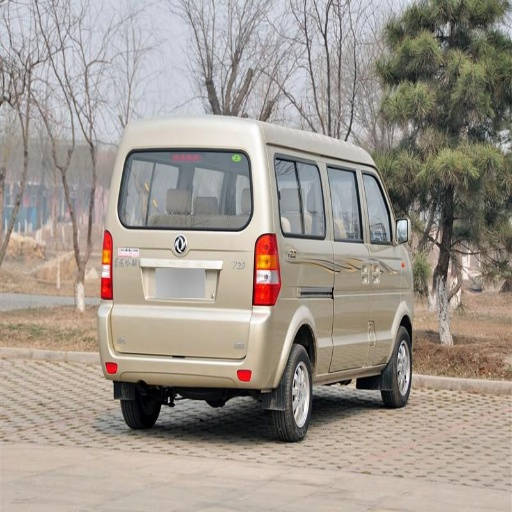back_bumper: (101, 299, 298, 385)
back_right_door: (273, 149, 363, 292)
trunk: (112, 228, 261, 359), (348, 256, 418, 351)
